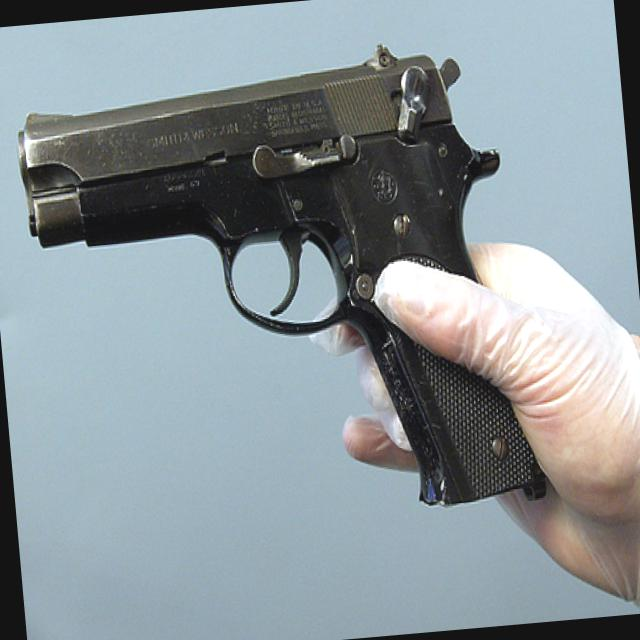handgun: (2, 25, 544, 537)
